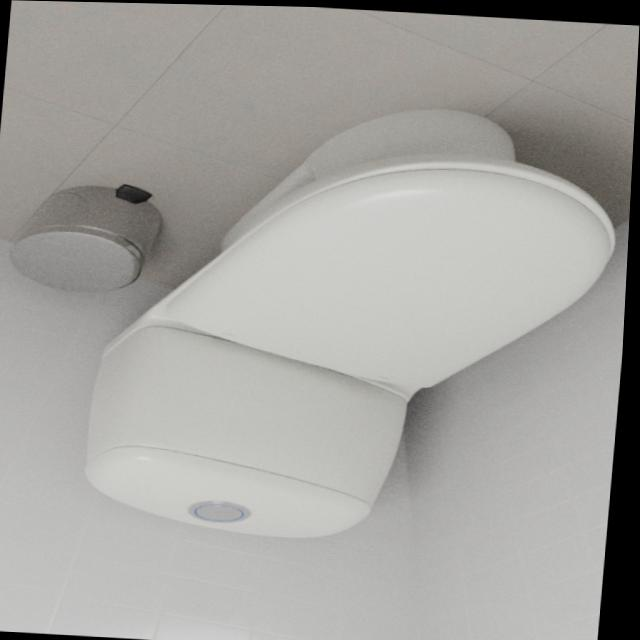toilet: (83, 88, 629, 554)
